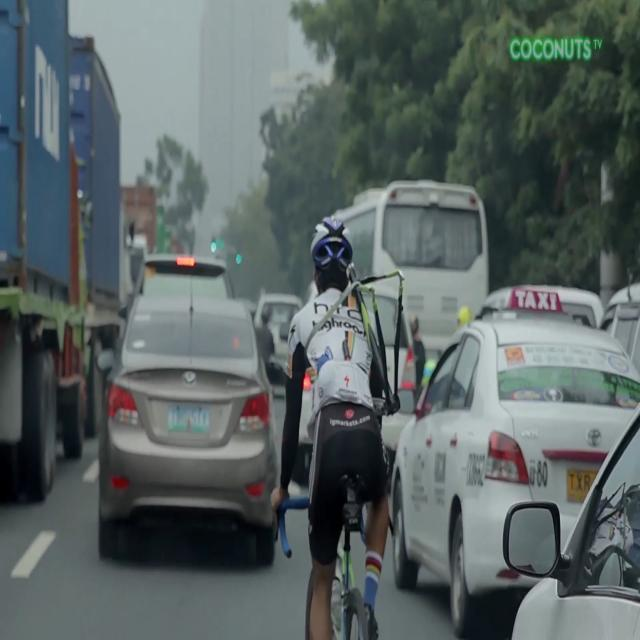bike: (278, 215, 406, 640)
bus: (333, 184, 489, 391)
truck: (0, 0, 93, 520)
